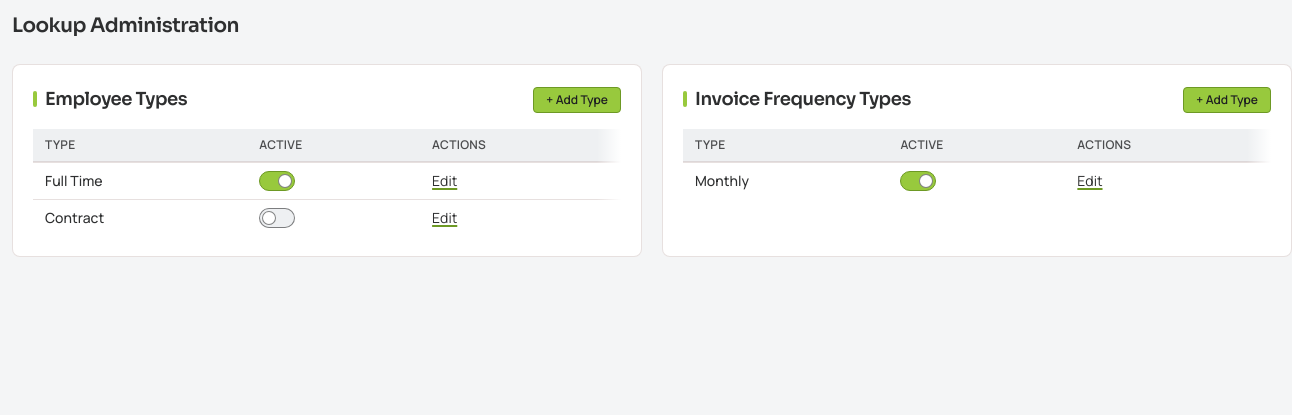
Test: LookupAdminPage › surfaces a blank-name rejection inline
Check: the cell "Full Time" is shown, box x1=33 y1=163 x2=247 y2=200
Click the button "+ Add Type" in the row of "Employee Types" at (577, 100), box x1=533 y1=86 x2=621 y2=112
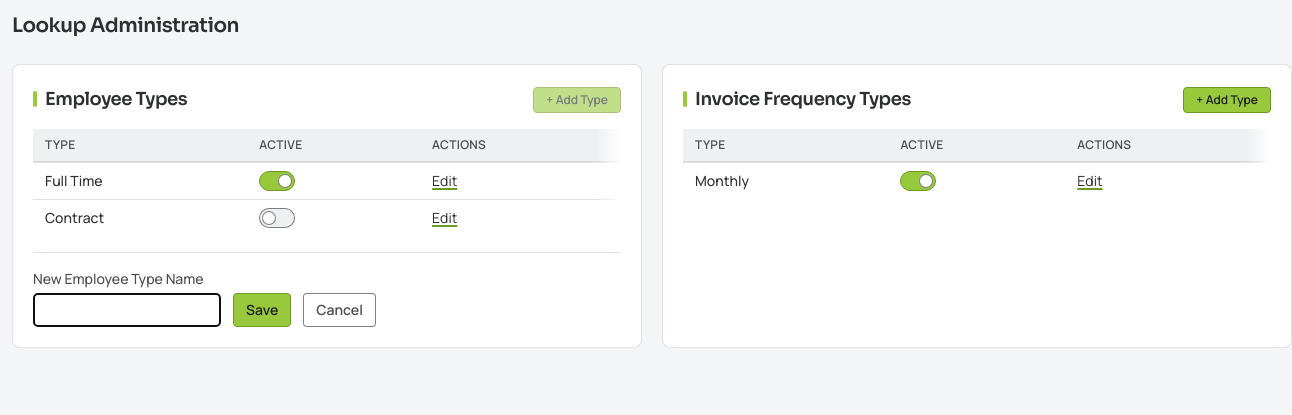
Type "x" into the field labelled "New Employee Type Name" at (127, 310), box x1=33 y1=293 x2=221 y2=327
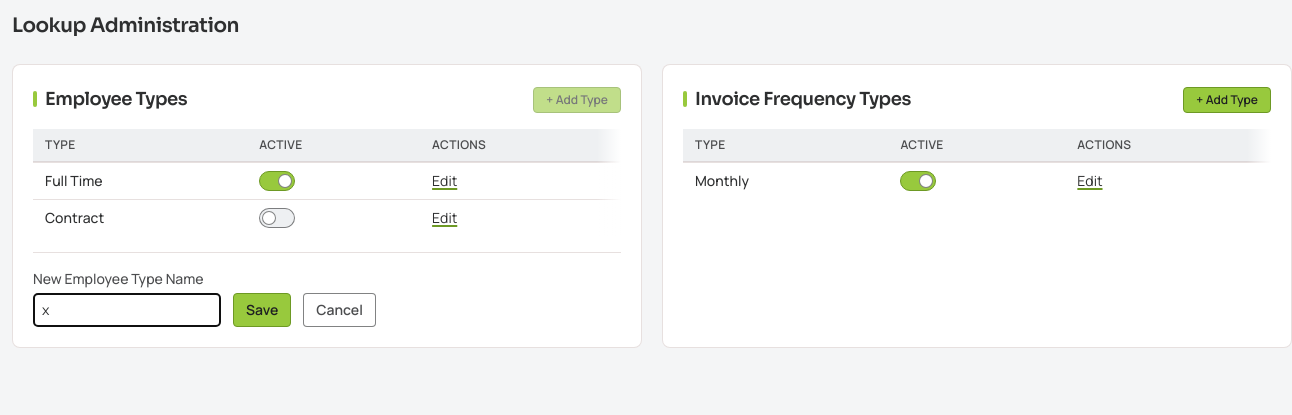
Click the button named "save new employee type" at (262, 310), box x1=233 y1=293 x2=291 y2=327
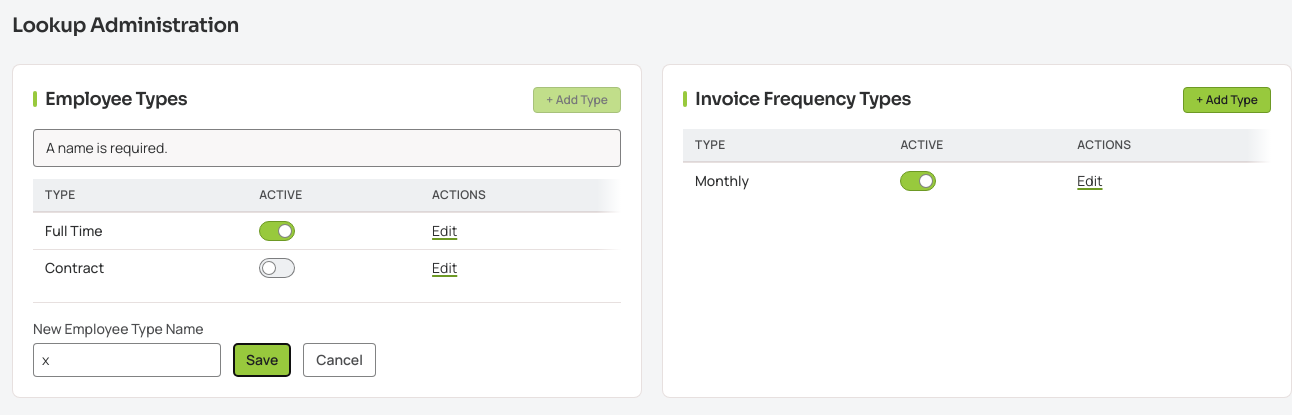
Check: the message shows "required", box x1=46 y1=138 x2=168 y2=157
